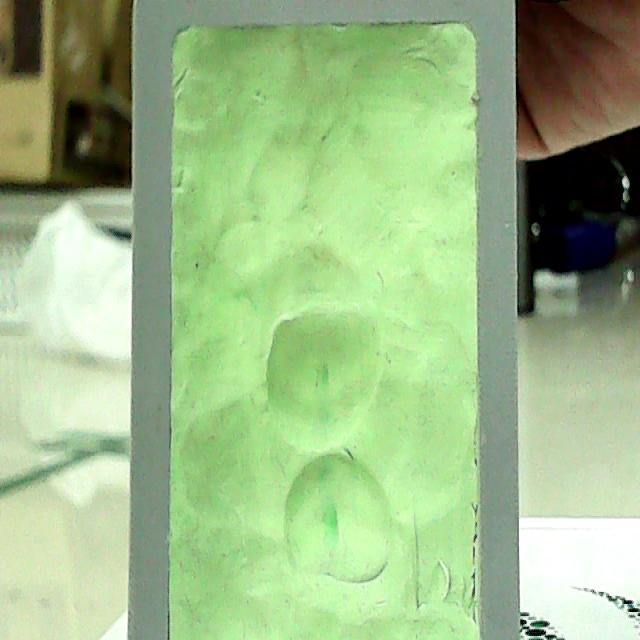block: (127, 3, 524, 634)
